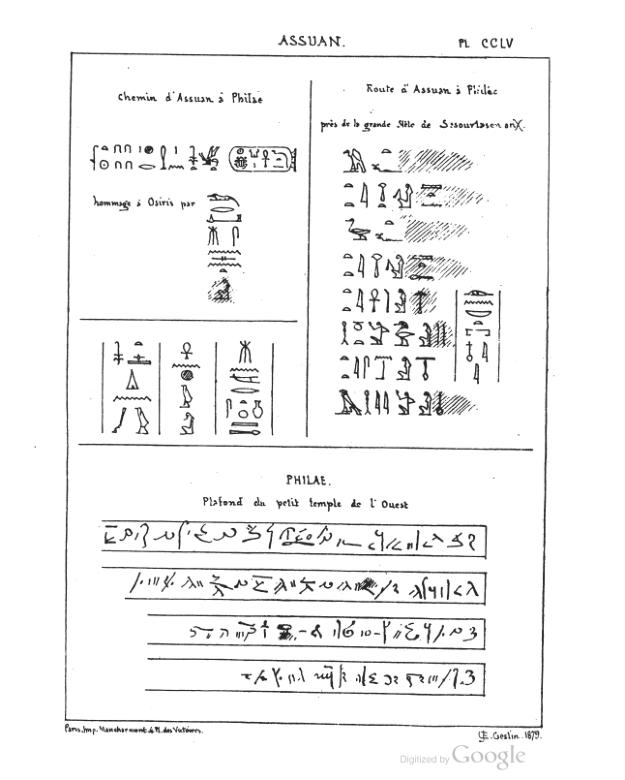circle: (227, 143, 299, 178)
